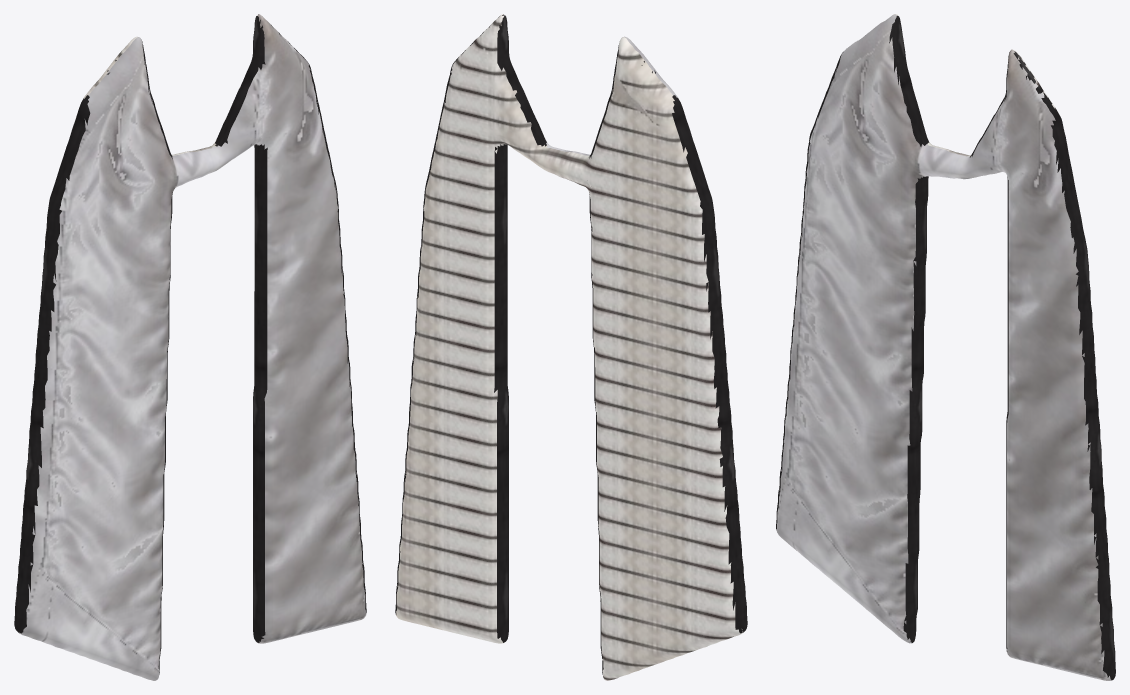
Rendered from NF025-fit-v5.glb.
3 views of the same model, side by side, from view 1: azimuth 30°, elevation 25°; view 2: azimuth 150°, elevation 25°; view 3: azimuth 330°, elevation 25° (orthographic). The views are drawn at different scales.
Visible parts, largest first — view 1: NF025_worn_photo_fitted; view 2: NF025_worn_photo_fitted; view 3: NF025_worn_photo_fitted.
Boxes of the visible parts, x1,y1,x2,y2 form: NF025_worn_photo_fitted: [14, 14, 366, 680]; NF025_worn_photo_fitted: [395, 14, 747, 680]; NF025_worn_photo_fitted: [776, 14, 1115, 680].
Bounding box in the file's own units: 0.4082 × 0.722 × 0.032.
3 materials, 3 textured.
